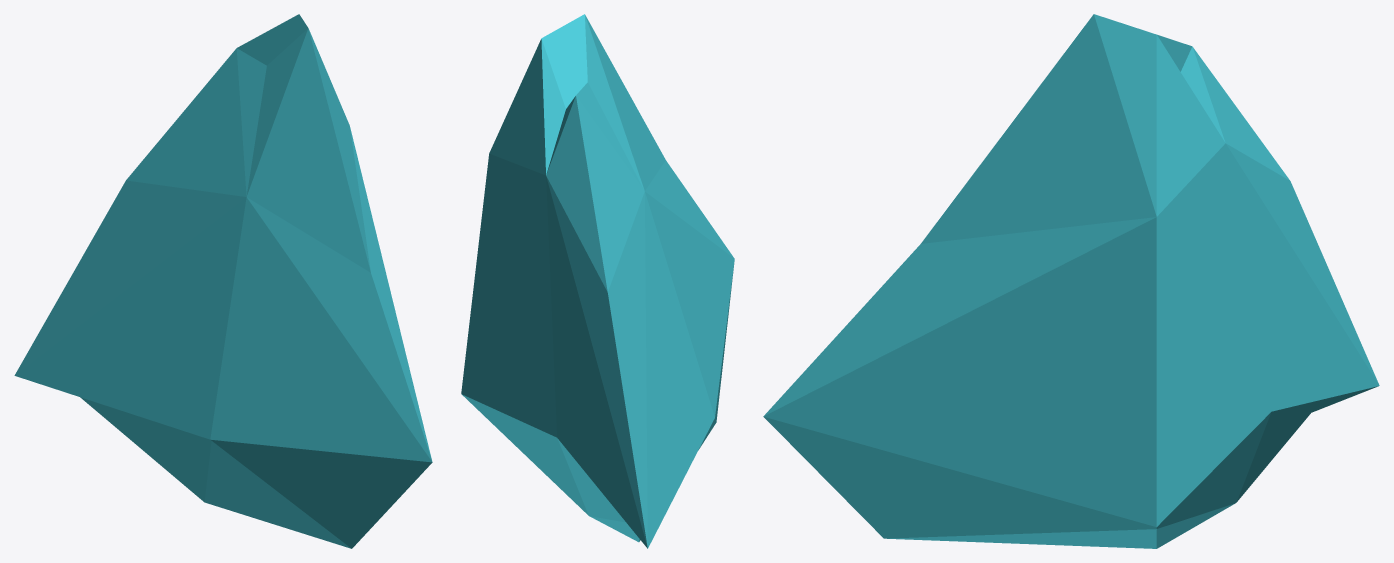
File: SM_Aquamarine_Chipped.fbx
The picture shows the model from 3 angles, left to right: view 1: azimuth 30°, elevation 25°; view 2: azimuth 150°, elevation 25°; view 3: azimuth 270°, elevation 25°; orthographic projection. The views are drawn at different scales.
Parts seen in each view (by area): view 1: SM_Aquamarine_Chipped; view 2: SM_Aquamarine_Chipped; view 3: SM_Aquamarine_Chipped.
Part boxes in pixels (x1=…): SM_Aquamarine_Chipped: x1=14, y1=14, x2=432, y2=548; SM_Aquamarine_Chipped: x1=461, y1=14, x2=734, y2=548; SM_Aquamarine_Chipped: x1=763, y1=14, x2=1379, y2=548.
Bounding box in the file's own units: 10.05 × 16.09 × 16.76.
